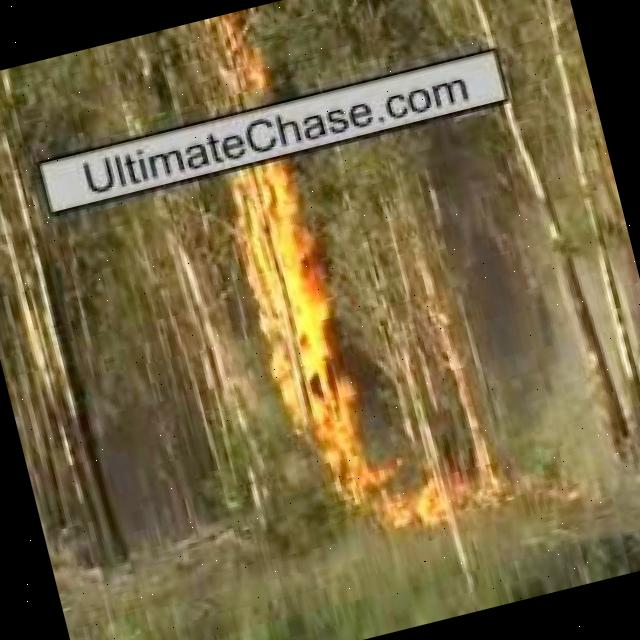fire: (228, 158, 358, 434), (308, 396, 502, 548), (212, 15, 278, 99)
